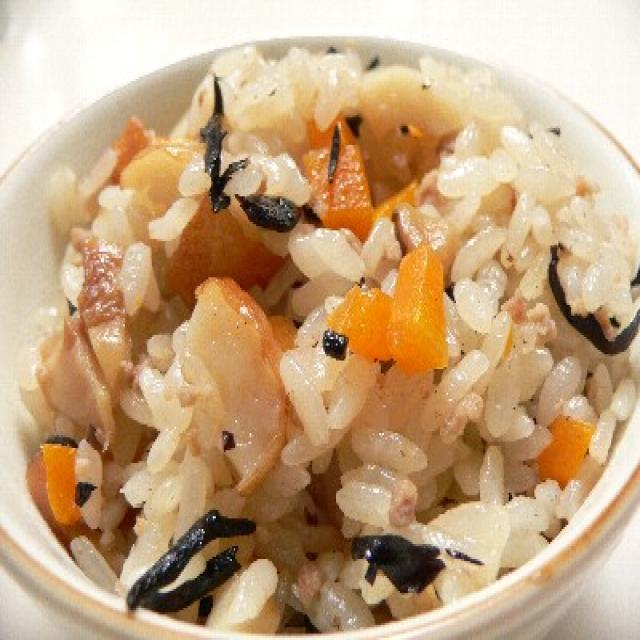米饭主食: (24, 56, 640, 618)
